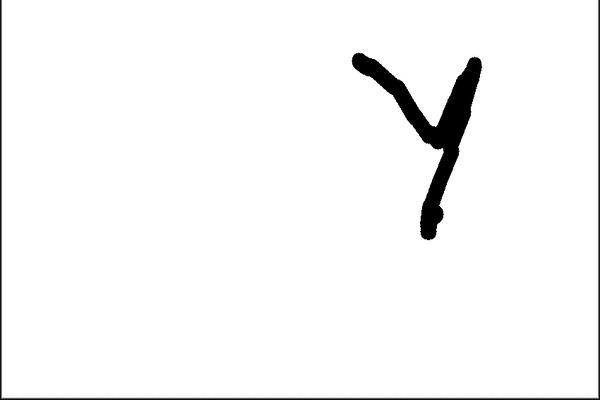Y: (337, 34, 494, 245)
